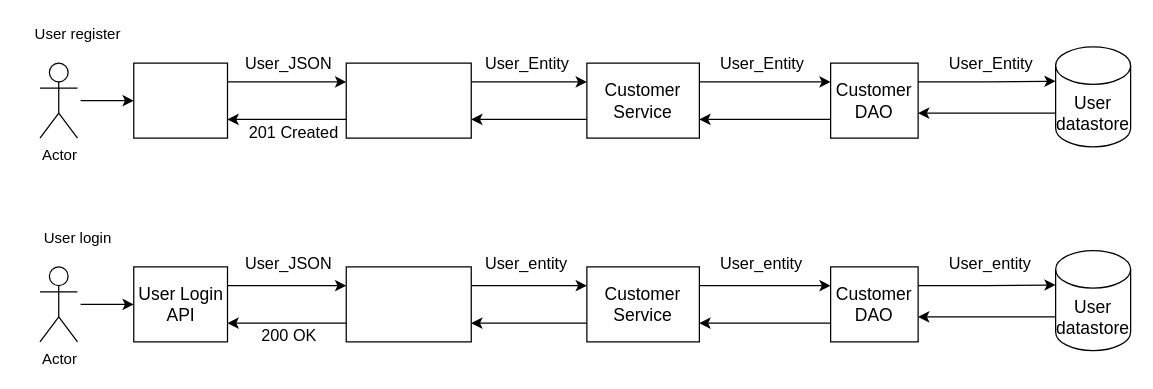
This 1153x389 diagram has some shape labels left out. The centre of each missing label's shape, as x and y in pixels:
SignIn Controller: pixel 408 304
SignUp Controller: pixel 408 100
User Register API: pixel 180 100
